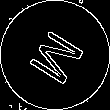M_SE: (21, 22, 88, 88)
